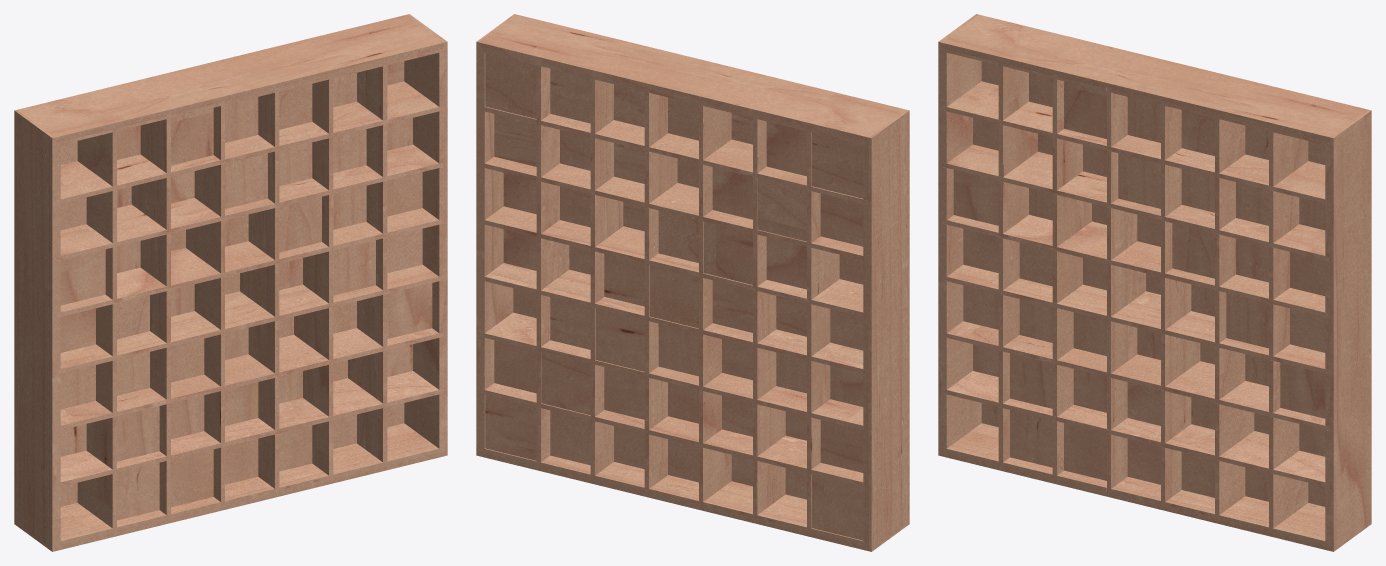
Rendered from RealDiff HDR.glb.
3 views of the same model, side by side, from view 1: azimuth 30°, elevation 25°; view 2: azimuth 150°, elevation 25°; view 3: azimuth 330°, elevation 25° (orthographic).
Parts seen in each view (by area): view 1: RealDiff HD; view 2: RealDiff HD; view 3: RealDiff HD.
Part boxes in pixels (bbox=[...]): RealDiff HD: bbox=[14, 14, 447, 551]; RealDiff HD: bbox=[476, 14, 909, 551]; RealDiff HD: bbox=[938, 14, 1371, 551].
Bounding box in the file's own units: 24 × 24 × 4.
1 material, 1 textured.
